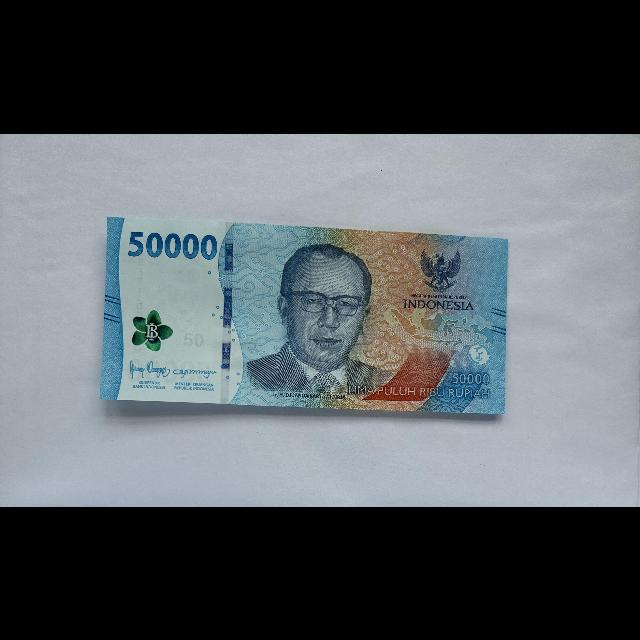Asli-50k: (97, 212, 510, 416)
Tinta-Asli-50k: (130, 307, 175, 352)
